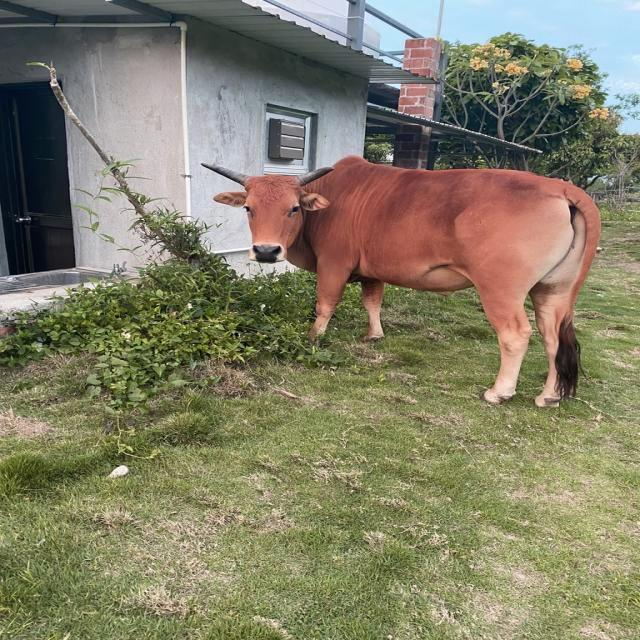cow: (205, 156, 600, 407)
